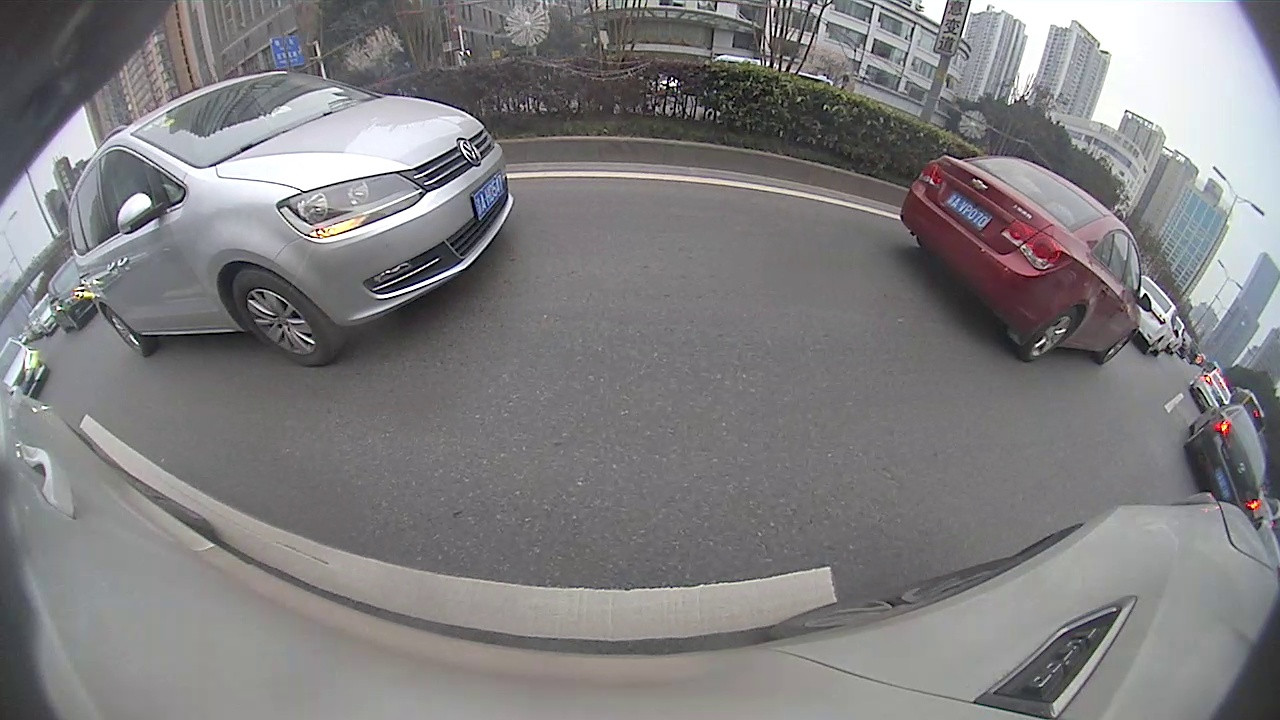car: (68, 69, 516, 368), (898, 154, 1153, 367), (1181, 398, 1268, 513), (47, 253, 100, 333), (1, 333, 50, 403), (1188, 365, 1232, 413)
front: (231, 267, 334, 366)
rear: (1022, 306, 1074, 362), (102, 304, 149, 358)
